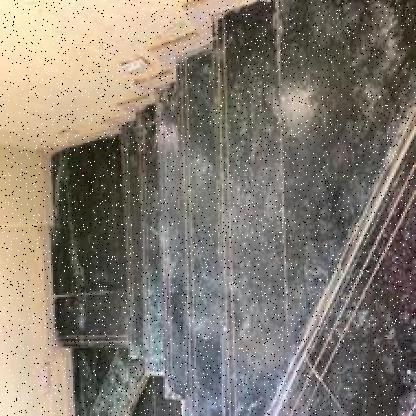stair_down: (178, 30, 330, 268)
